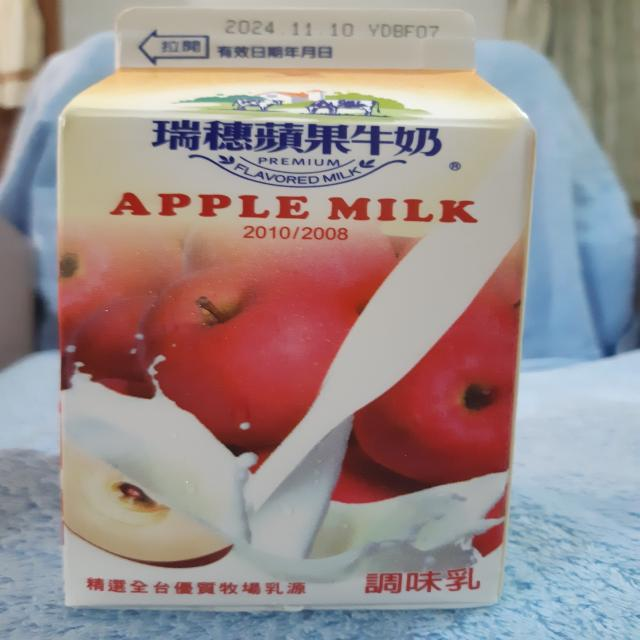RuiSui_AppleMilk: (54, 0, 537, 615)
